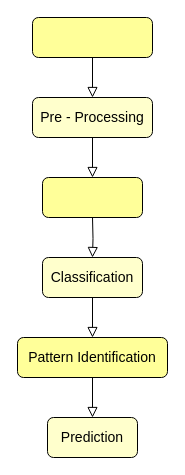
Some shapes in this 185 by 475 pixel diagram are drawn without their labels. Here are the shapes that lost their labels. From the top down, the centre of each, then its label:
At point 92,37: "Data Collection".
At point 92,197: "Visualization".
